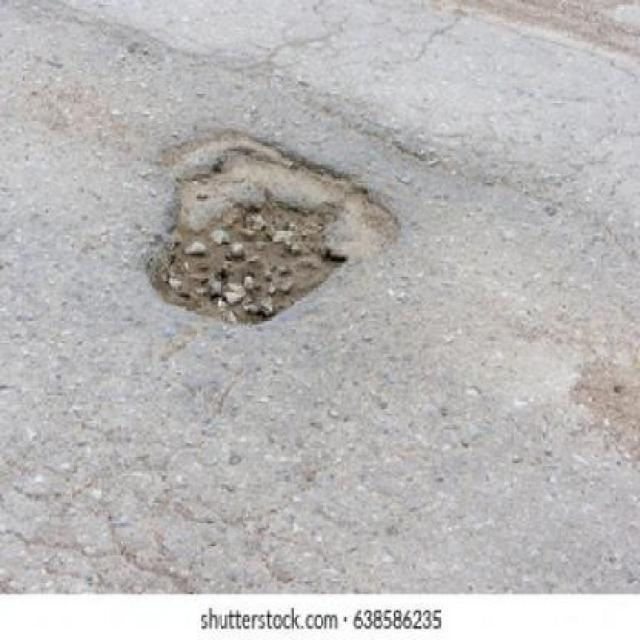Buraco: (134, 125, 408, 332)
